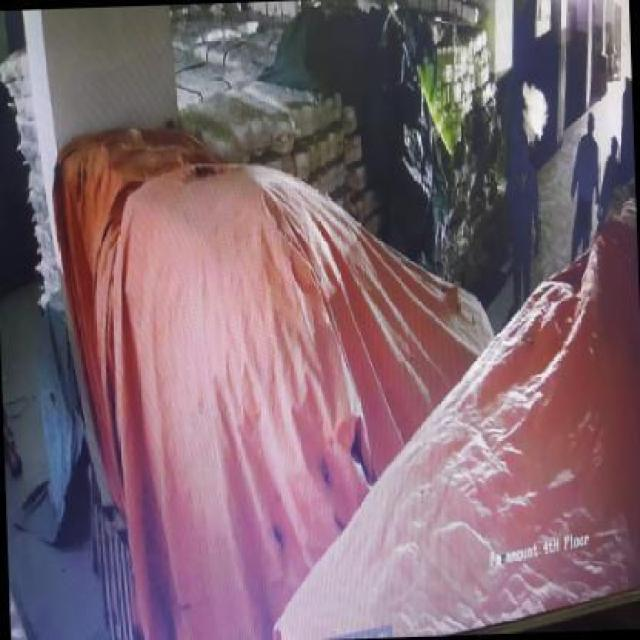fire: (520, 76, 551, 142)
